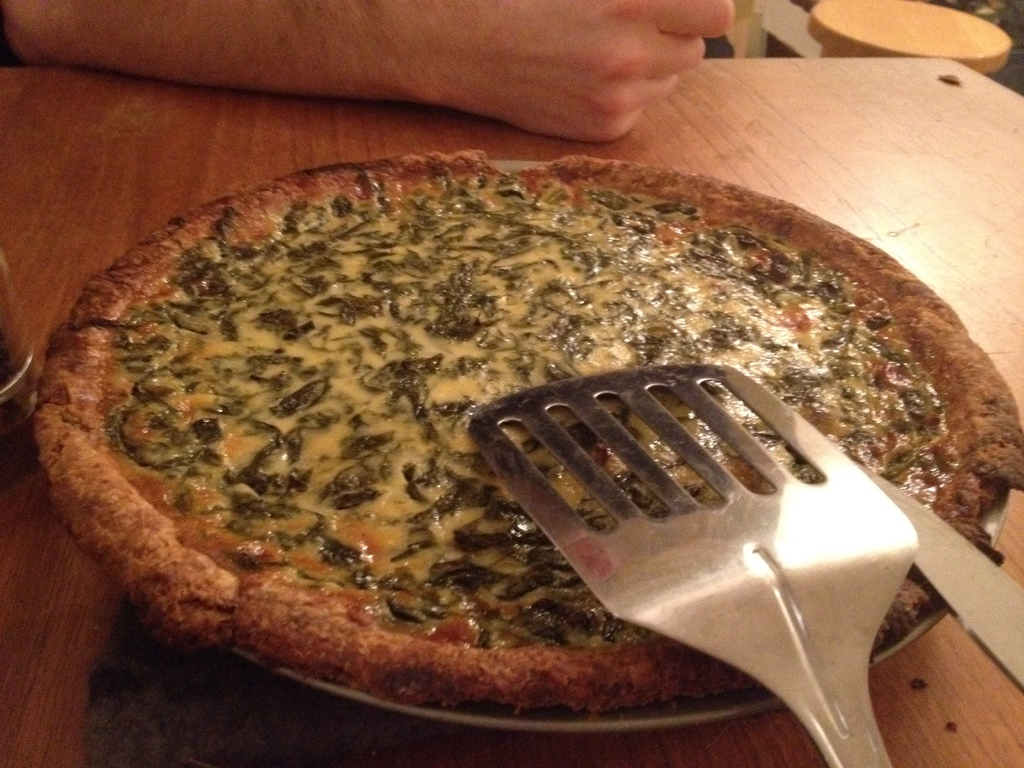Pizza: (28, 144, 1023, 709)
